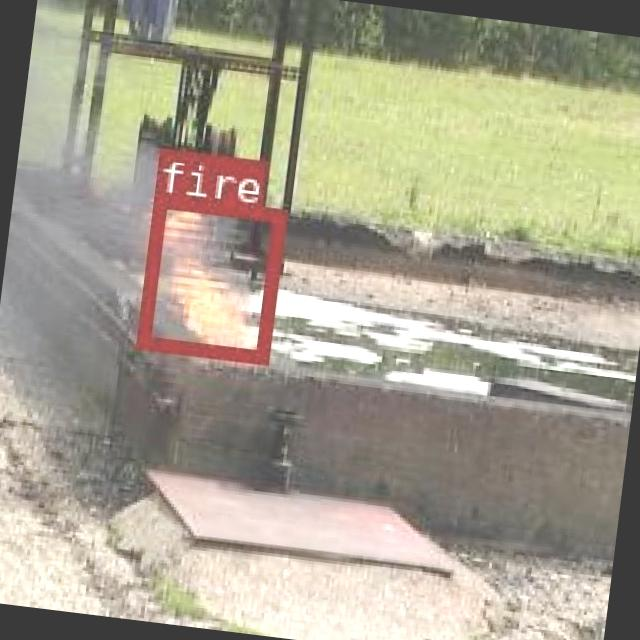fire: (134, 192, 283, 359)
